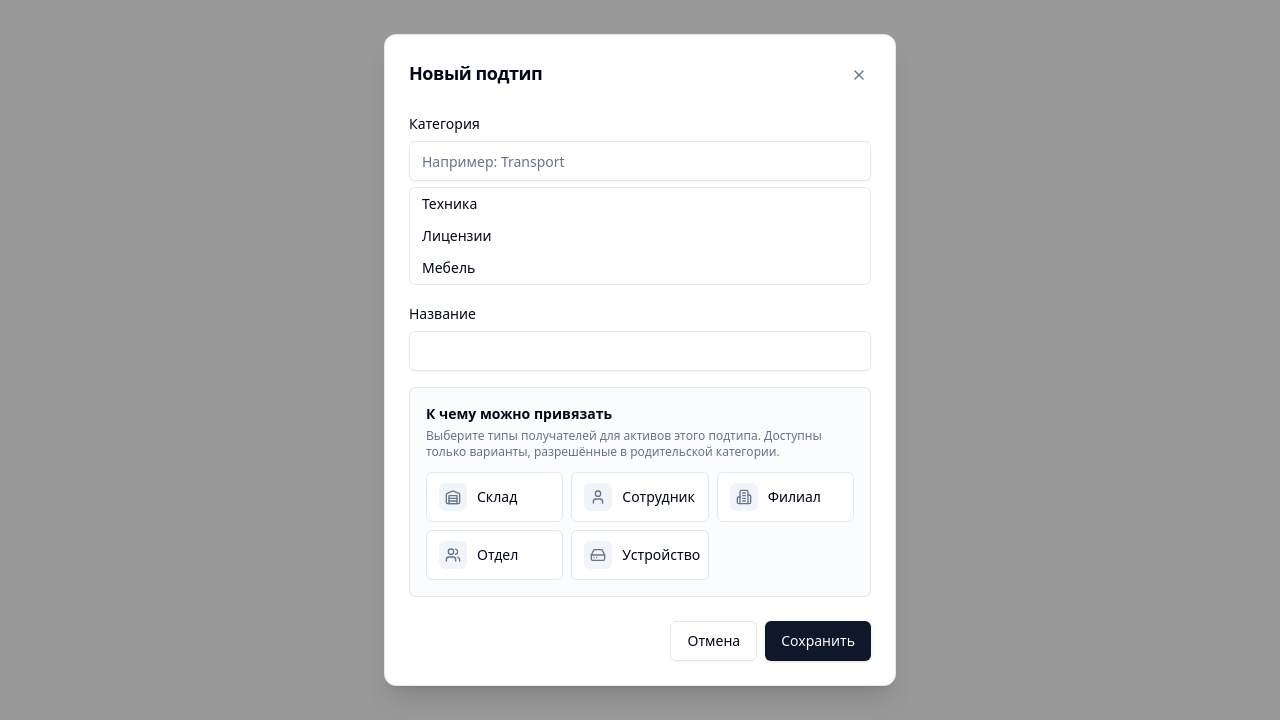
SubtypeFormDialog › shows the id-conflict error when the parent rejects with AssetSubtypeIdConflictError
Step 1. Type "Техника" into the field labelled "Категория" → (640,161), box [409,141,871,181]
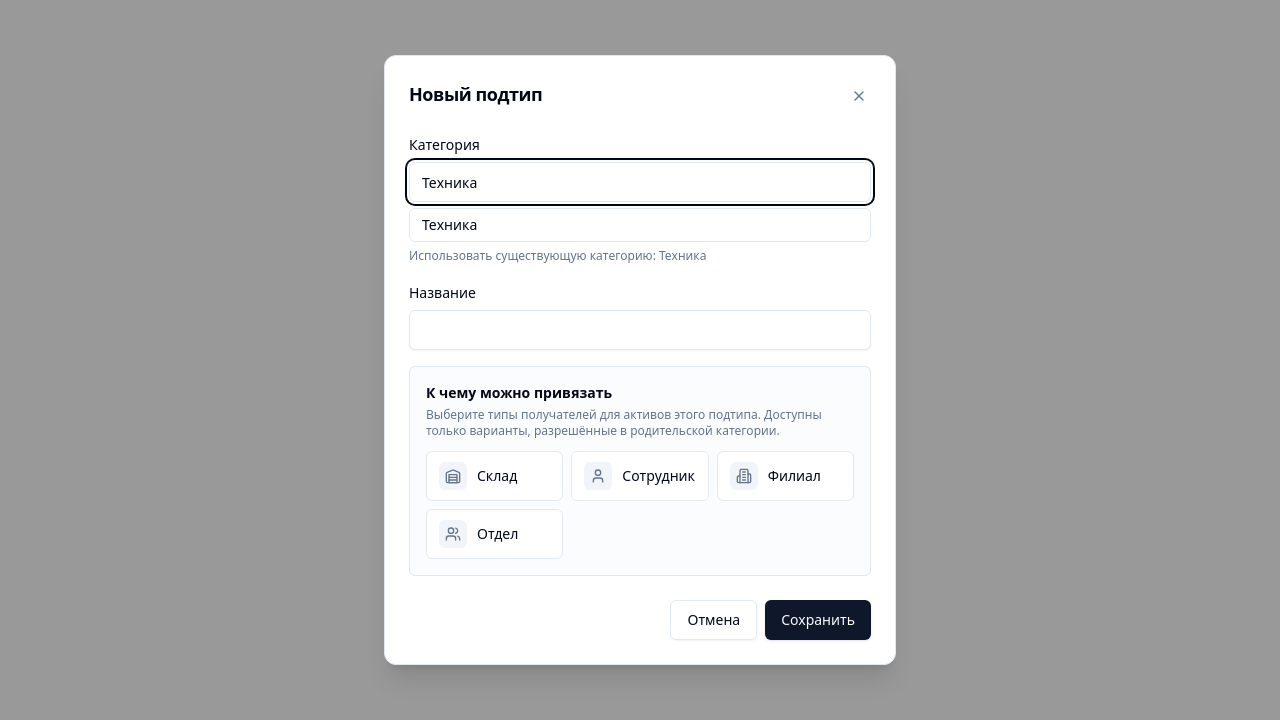
Step 2. Type "Laptop" into the 2nd field → (640,330), box [409,310,871,350]
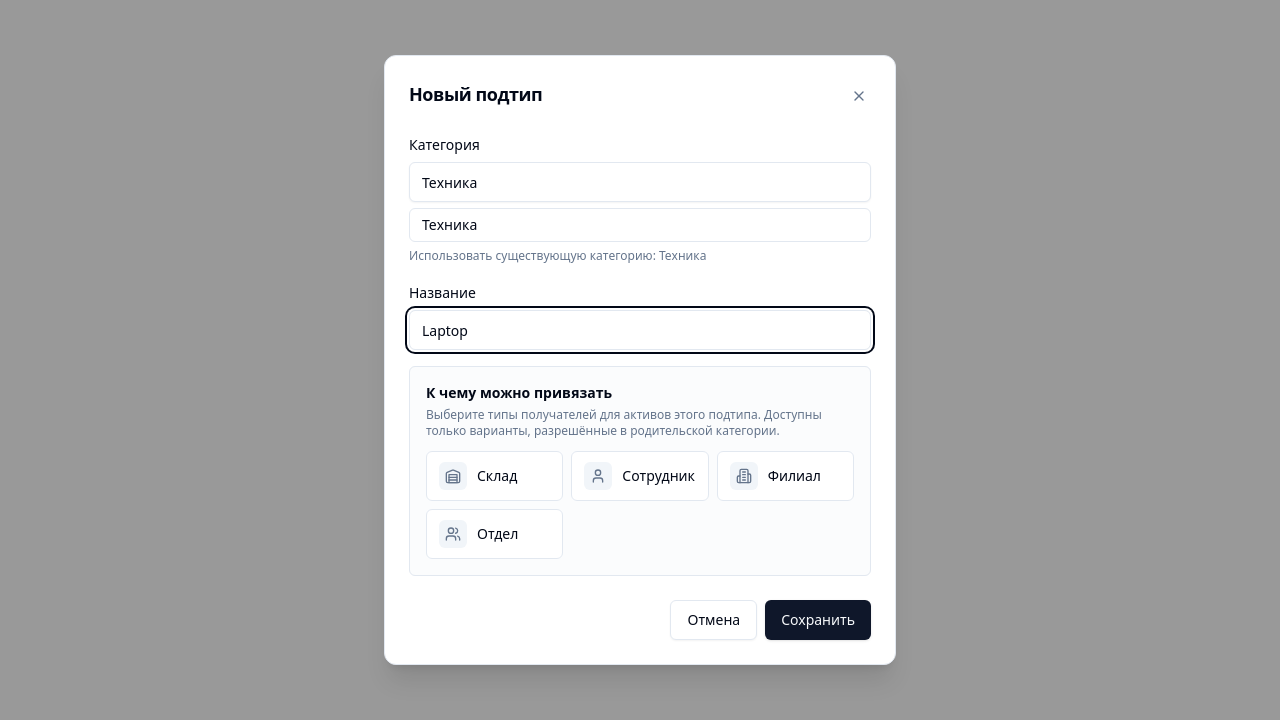
Step 3. Click the checkbox labelled "Филиал" → (785,476), box [717,451,854,501]
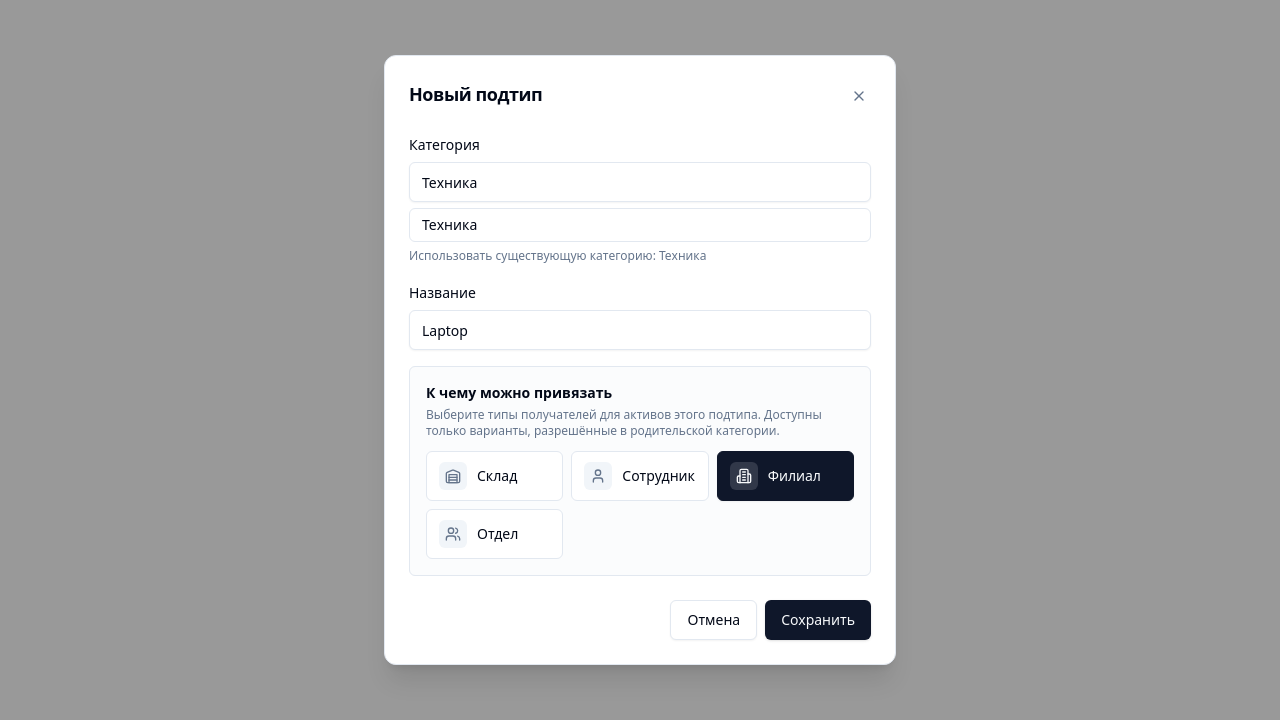
Step 4. Click the button "Сохранить" → (818,620), box [765,600,871,640]
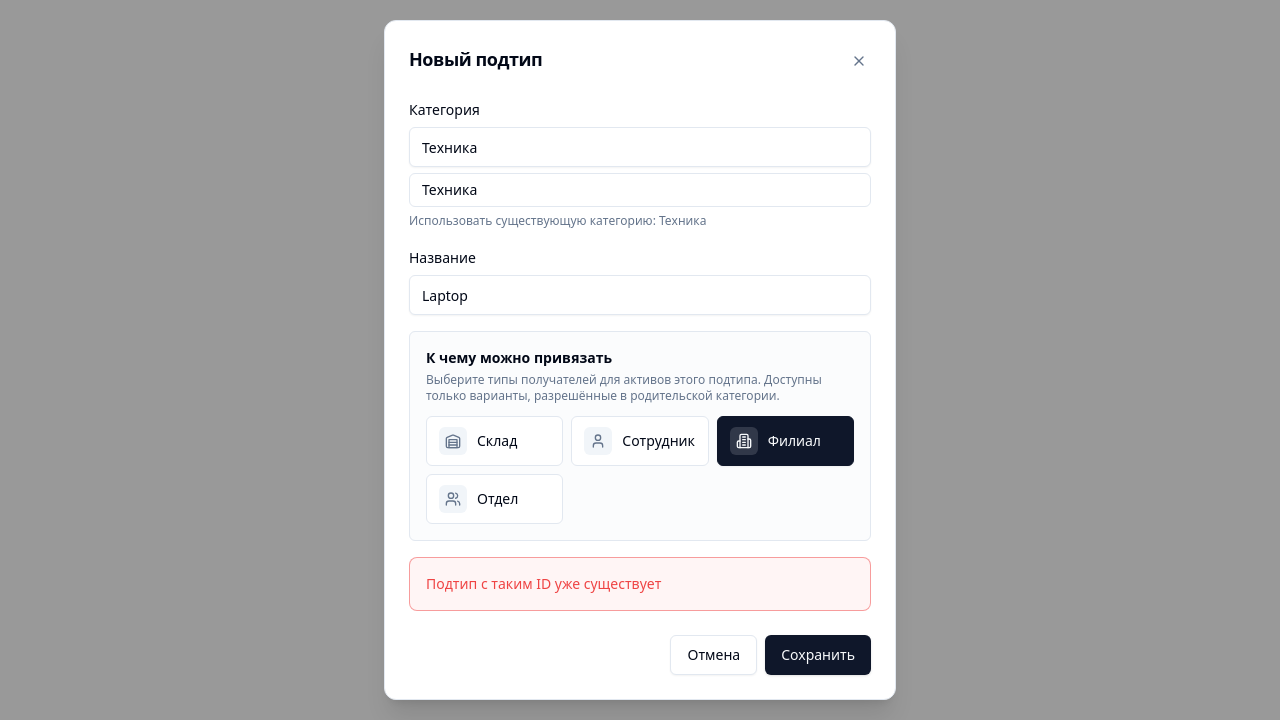
Now the text "Подтип с таким ID уже существует" is shown, box [426,574,661,593]
